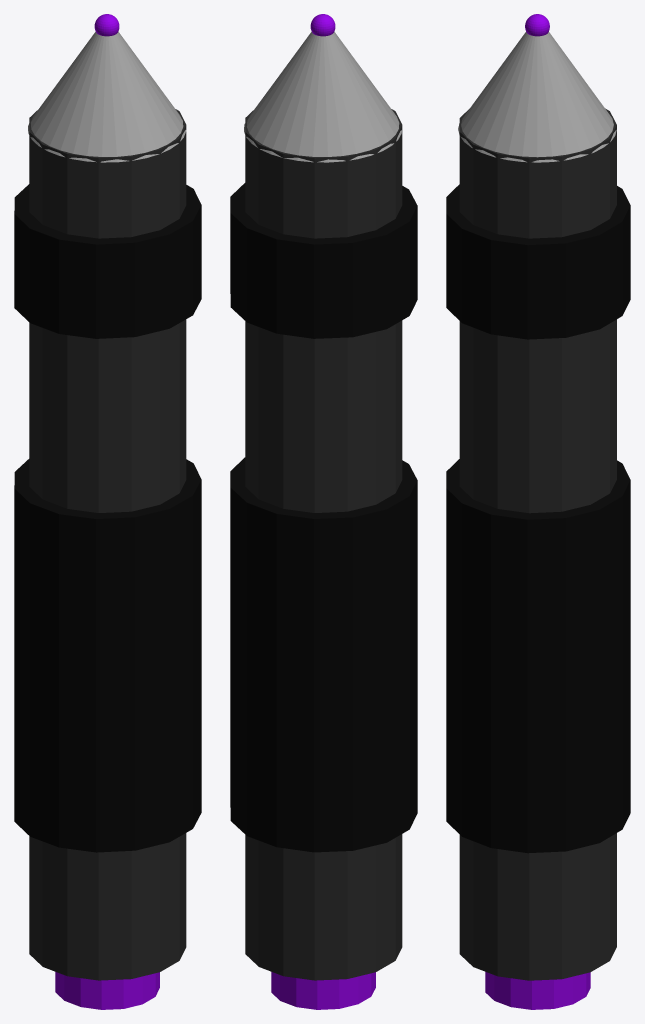
Rendered from UVpenER.fbx.
The picture shows the model from 3 angles, left to right: view 1: azimuth 30°, elevation 25°; view 2: azimuth 150°, elevation 25°; view 3: azimuth 270°, elevation 25°; orthographic projection.
Visible parts, largest first — view 1: Cylinder.002, Cylinder, Cylinder.001, Cone, Cylinder.003, Sphere; view 2: Cylinder.002, Cylinder, Cylinder.001, Cone, Cylinder.003, Sphere; view 3: Cylinder.002, Cylinder, Cylinder.001, Cone, Cylinder.003, Sphere.
Boxes of the visible parts, left/top/right/bottom form: Cylinder.002: left=14, top=459, right=201, bottom=852; Cylinder: left=29, top=109, right=186, bottom=980; Cylinder.001: left=14, top=184, right=201, bottom=338; Cone: left=28, top=31, right=186, bottom=162; Cylinder.003: left=55, top=972, right=159, bottom=1009; Sphere: left=94, top=14, right=119, bottom=36; Cylinder.002: left=230, top=457, right=417, bottom=852; Cylinder: left=245, top=109, right=402, bottom=980; Cylinder.001: left=230, top=183, right=417, bottom=338; Cone: left=244, top=31, right=401, bottom=162; Cylinder.003: left=271, top=972, right=375, bottom=1009; Sphere: left=310, top=14, right=335, bottom=36; Cylinder.002: left=446, top=459, right=630, bottom=853; Cylinder: left=459, top=108, right=616, bottom=980; Cylinder.001: left=446, top=184, right=630, bottom=339; Cone: left=458, top=32, right=616, bottom=162; Cylinder.003: left=485, top=972, right=590, bottom=1009; Sphere: left=525, top=14, right=549, bottom=36.
Bounding box in the file's own units: 16.66 × 94.61 × 16.24.
